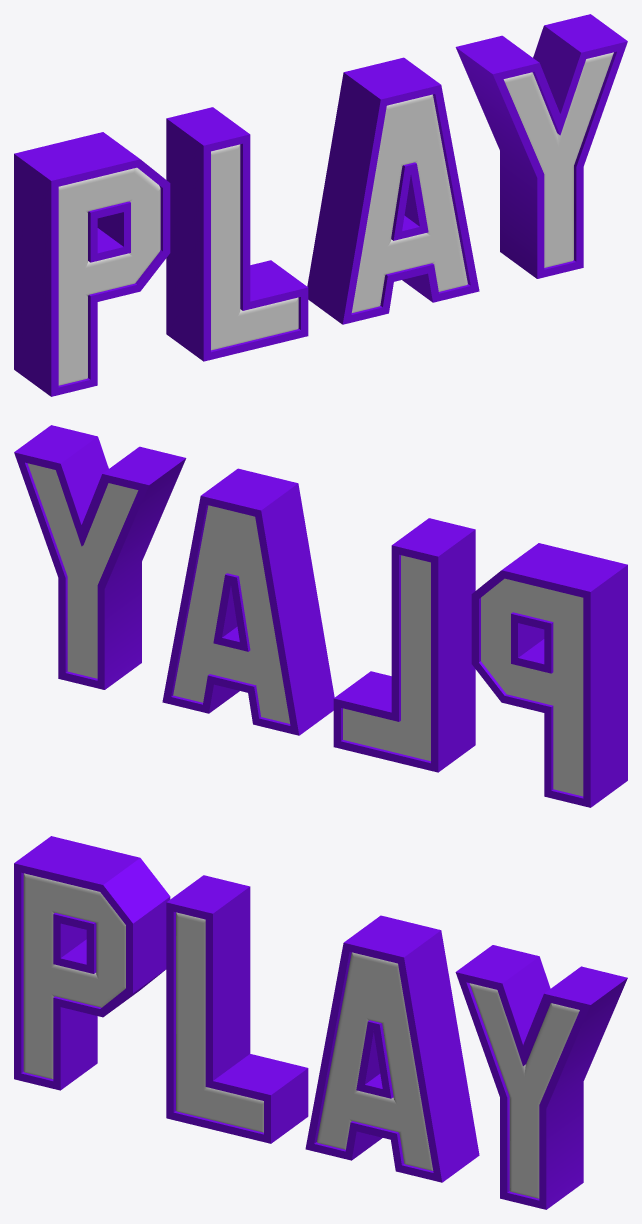
The model's file is Play3DText.fbx.
3 renders of one model, top to bottom at view 1: azimuth 30°, elevation 25°; view 2: azimuth 150°, elevation 25°; view 3: azimuth 330°, elevation 25°, orthographic.
Visible parts, largest first — view 1: Extrusion Model.000, Extrusion Model; view 2: Extrusion Model.000, Extrusion Model; view 3: Extrusion Model.000, Extrusion Model.
Part boxes in pixels (x1,y1,x2,y2): Extrusion Model.000: (14, 14, 627, 396); Extrusion Model: (58, 52, 613, 385); Extrusion Model.000: (14, 425, 627, 807); Extrusion Model: (27, 463, 583, 796); Extrusion Model.000: (14, 836, 627, 1209); Extrusion Model: (23, 873, 579, 1198).
Bounding box in the file's own units: 42.6 × 15.45 × 4.77.
